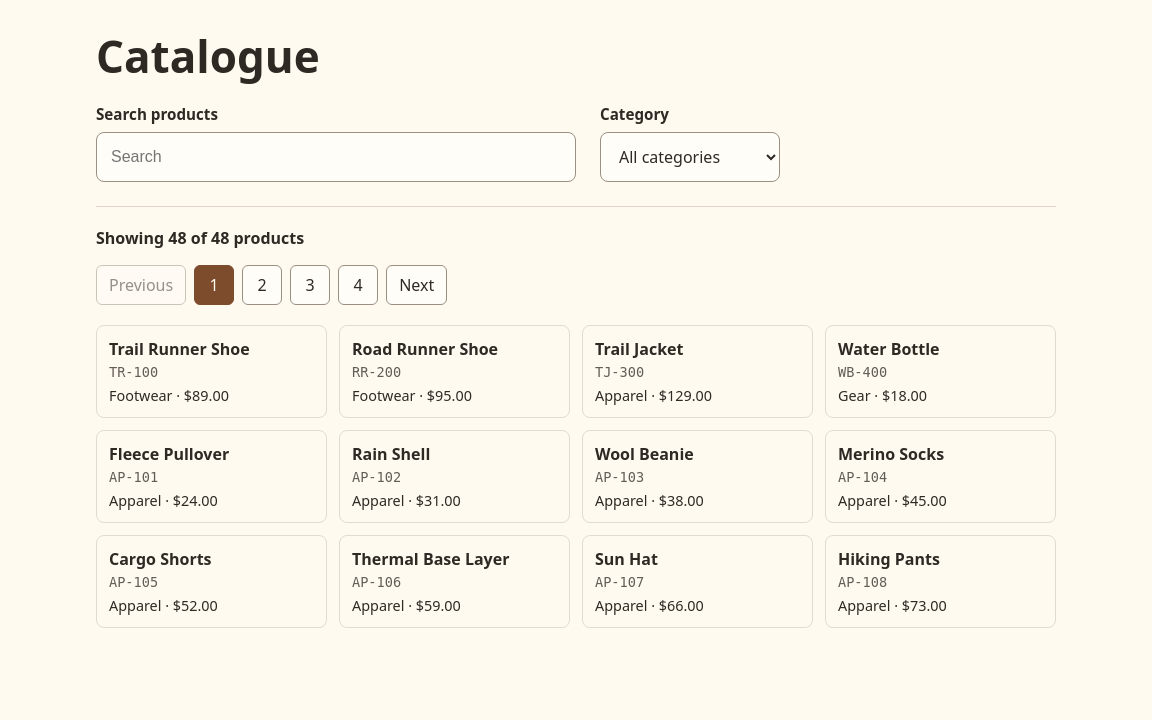
Test case: Catalog page › paginates results and resets to page 1 when filters change
Click the button "Next" at (417, 285), box [386,265,447,305]
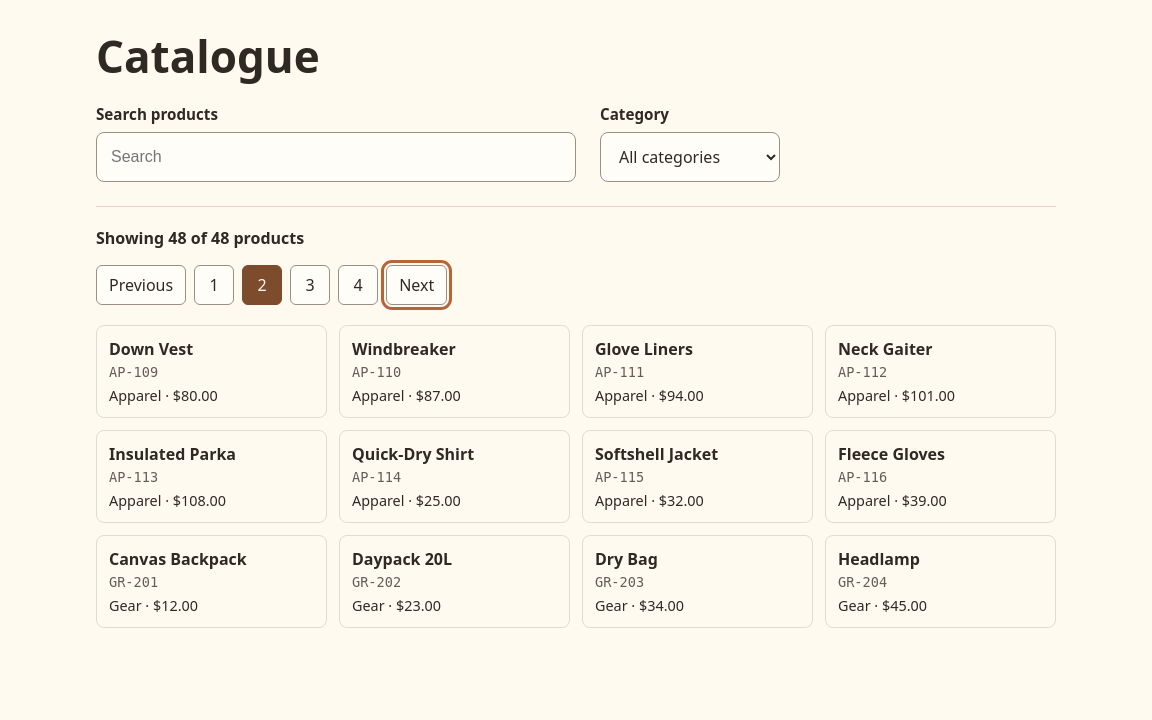
expect the heading "Down Vest" is shown: met, box [109,338,193,360]
Click the button "4" at (358, 285), box [338,265,378,305]
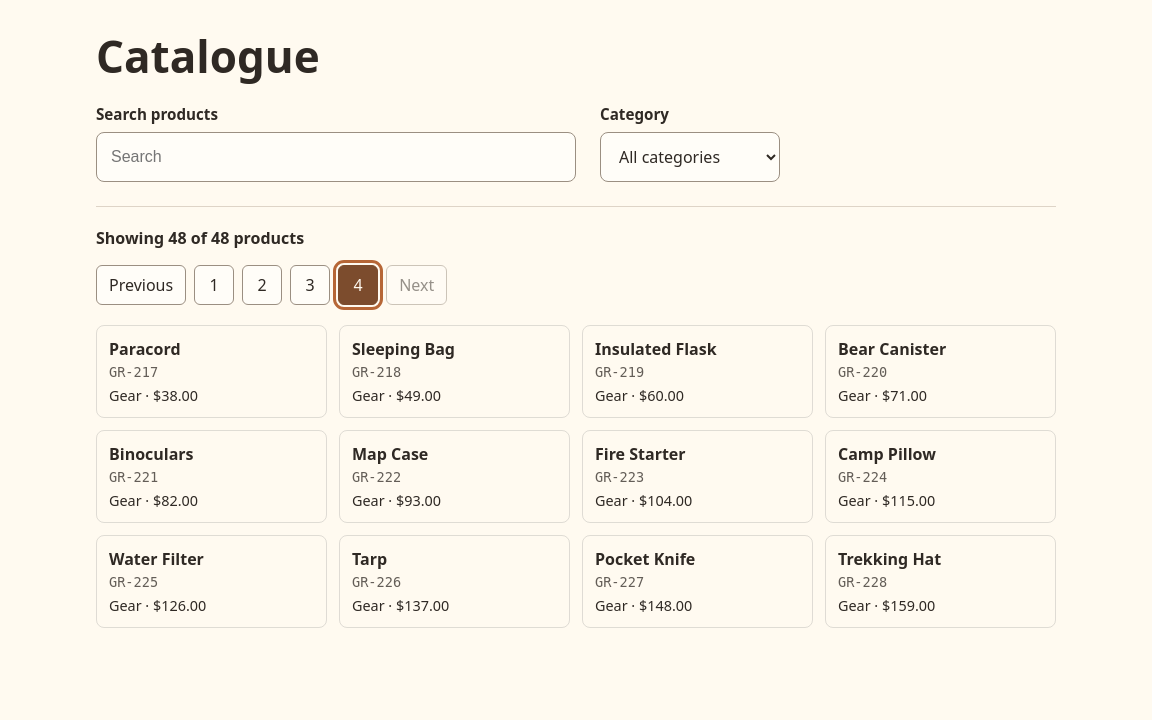
expect the button "Next" is disabled: met, box [386,265,447,305]
expect the heading "Fire Starter" is shown: met, box [595,443,686,465]
Click the button "Previous" at (141, 285), box [96,265,186,305]
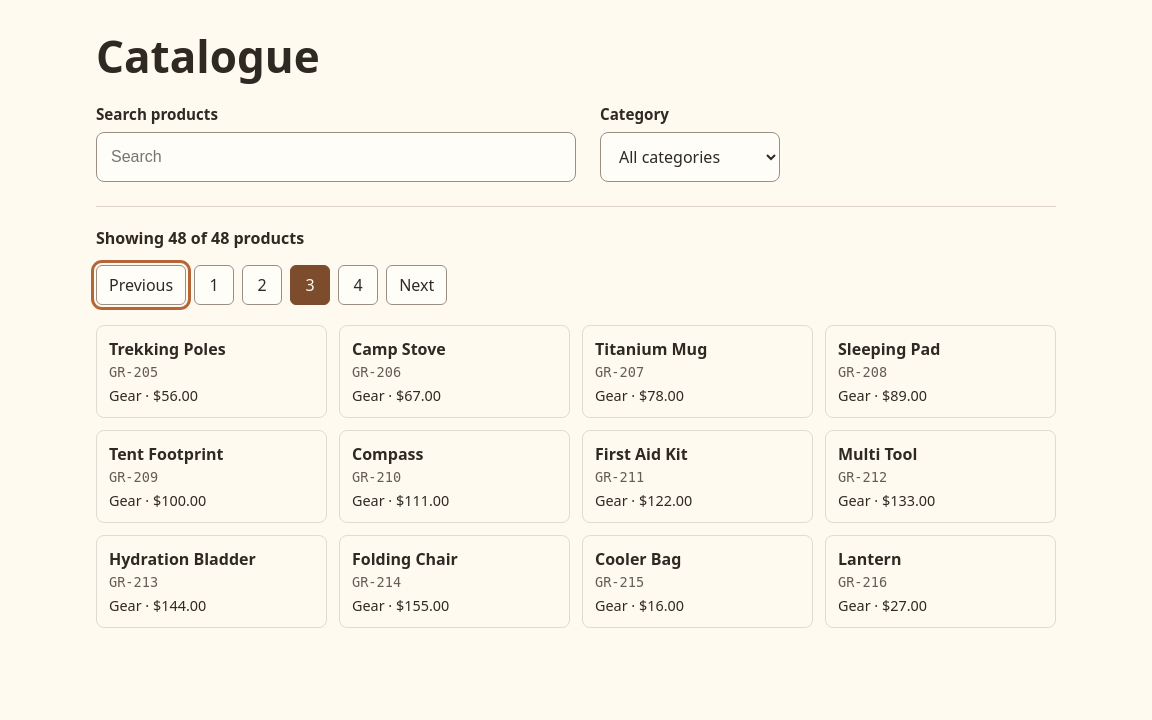
expect the heading "Trekking Poles" is shown: met, box [109,338,226,360]
Select "Gear" in the dropdown labelled "Category" at (690, 157), box [600,132,780,182]
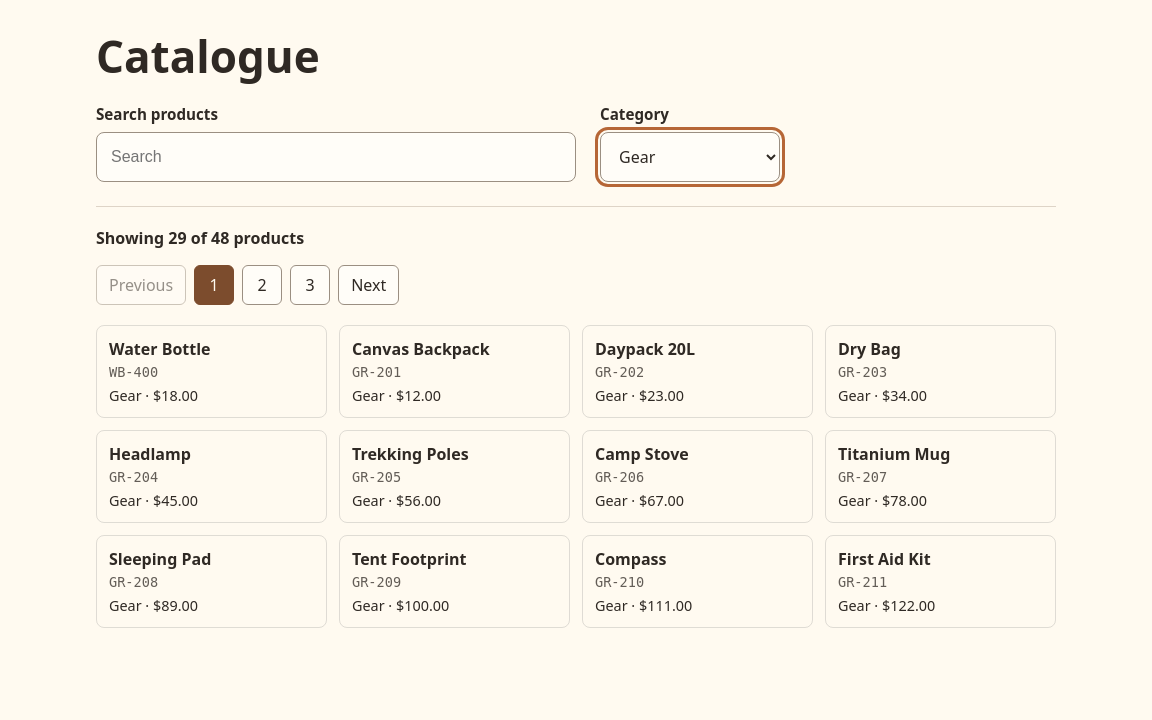
expect the text "Showing 29 of 48 products" is shown: met, box [96,227,304,249]
expect the button "Previous" is disabled: met, box [96,265,186,305]
expect the heading "Water Bottle" is shown: met, box [109,338,210,360]
Click the button "3" at (310, 285), box [290,265,330,305]
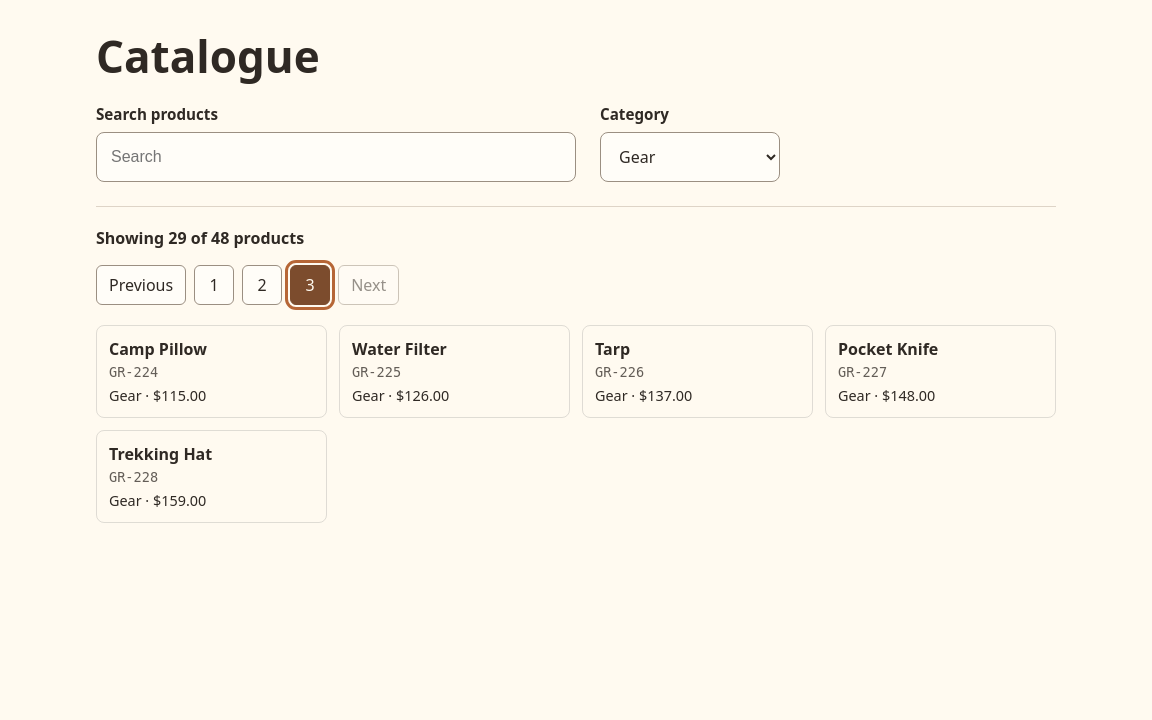
Type "gr-2" into the field labelled "Search products" at (336, 157), box [96,132,576,182]
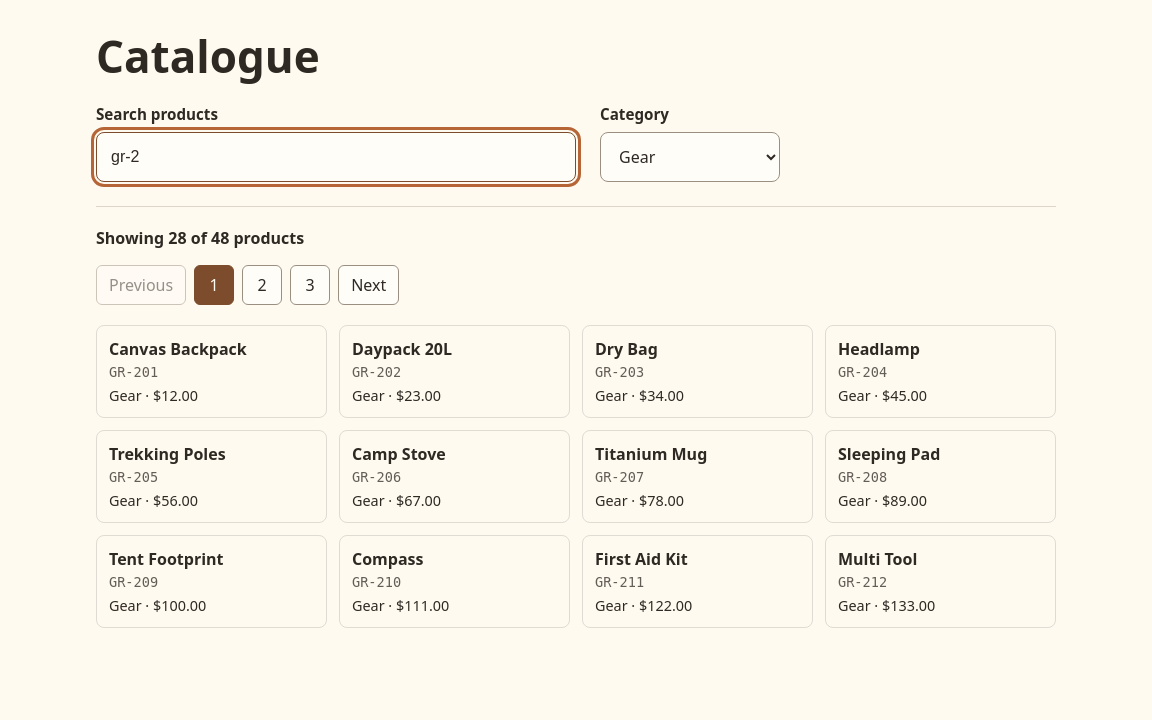
expect the text "Showing 28 of 48 products" is shown: met, box [96,227,304,249]
expect the heading "Canvas Backpack" is shown: met, box [109,338,247,360]
